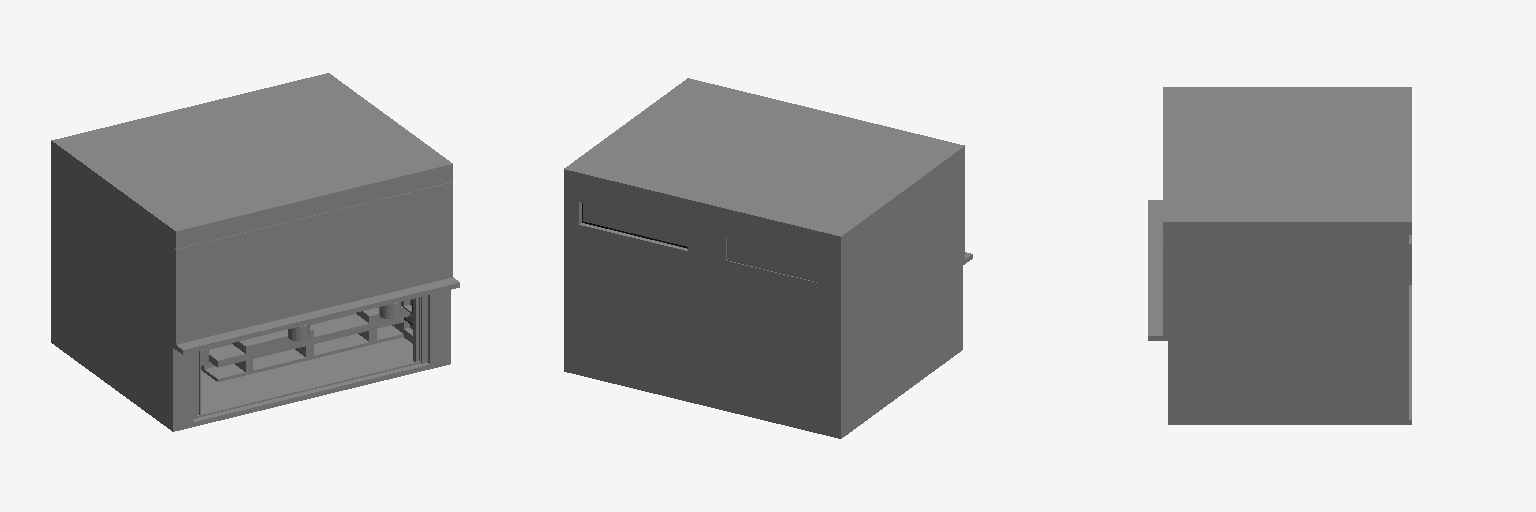
The model's file is str.obj.
3 renders of one model, left to right at view 1: azimuth 30°, elevation 25°; view 2: azimuth 150°, elevation 25°; view 3: azimuth 270°, elevation 25°, orthographic.
Visible parts, largest first — view 1: Group_026, Group_032, muros_peri, Group_005, Group_020, Group_030, Group_62_0_Group_62_2, Group_62_0, Group_62_0_Group_62_1, Group_041_Group_039, Group_041, Group_041_Group_040; view 2: muros_peri, Group_032, Group_030, Group_070, Group_071, Group_020, Group_026; view 3: Box001, Group_032, Group_026, Group_020, muros_peri.
Boxes of the visible parts, <box> form: Group_026: <box>173,162,459,354</box>; Group_032: <box>51,73,449,241</box>; muros_peri: <box>51,153,166,421</box>; Group_005: <box>201,337,412,412</box>; Group_020: <box>167,238,450,426</box>; Group_030: <box>51,338,450,431</box>; Group_62_0_Group_62_2: <box>201,333,279,371</box>; Group_62_0: <box>328,306,403,341</box>; Group_62_0_Group_62_1: <box>273,320,341,357</box>; Group_041_Group_039: <box>201,356,279,381</box>; Group_041: <box>330,325,403,351</box>; Group_041_Group_040: <box>268,340,341,366</box>; muros_peri: <box>564,166,955,433</box>; Group_032: <box>564,80,962,249</box>; Group_030: <box>564,345,962,438</box>; Group_070: <box>583,203,687,246</box>; Group_071: <box>728,240,815,279</box>; Group_020: <box>956,161,962,349</box>; Group_026: <box>686,78,972,264</box>; Box001: <box>1181,226,1408,424</box>; Group_032: <box>1168,87,1411,234</box>; Group_026: <box>1148,87,1167,340</box>; Group_020: <box>1168,235,1180,419</box>; muros_peri: <box>1409,235,1411,419</box>.
Bounding box in the file's own units: 353 × 246 × 290.